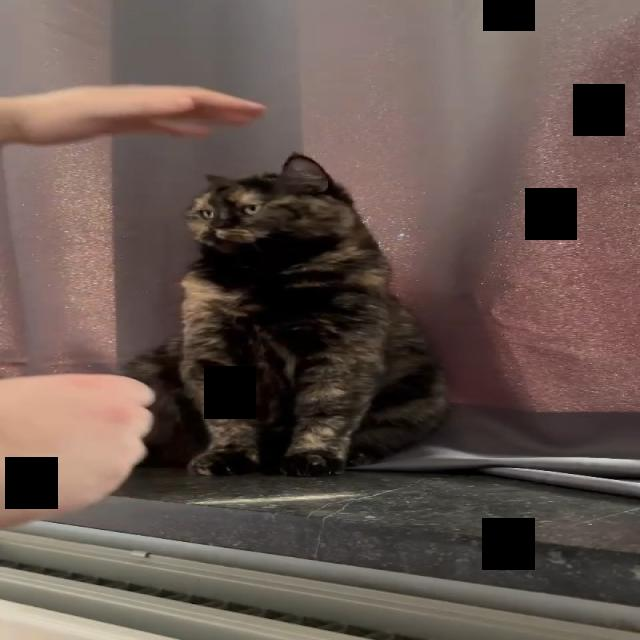authorized: (121, 151, 451, 477)
